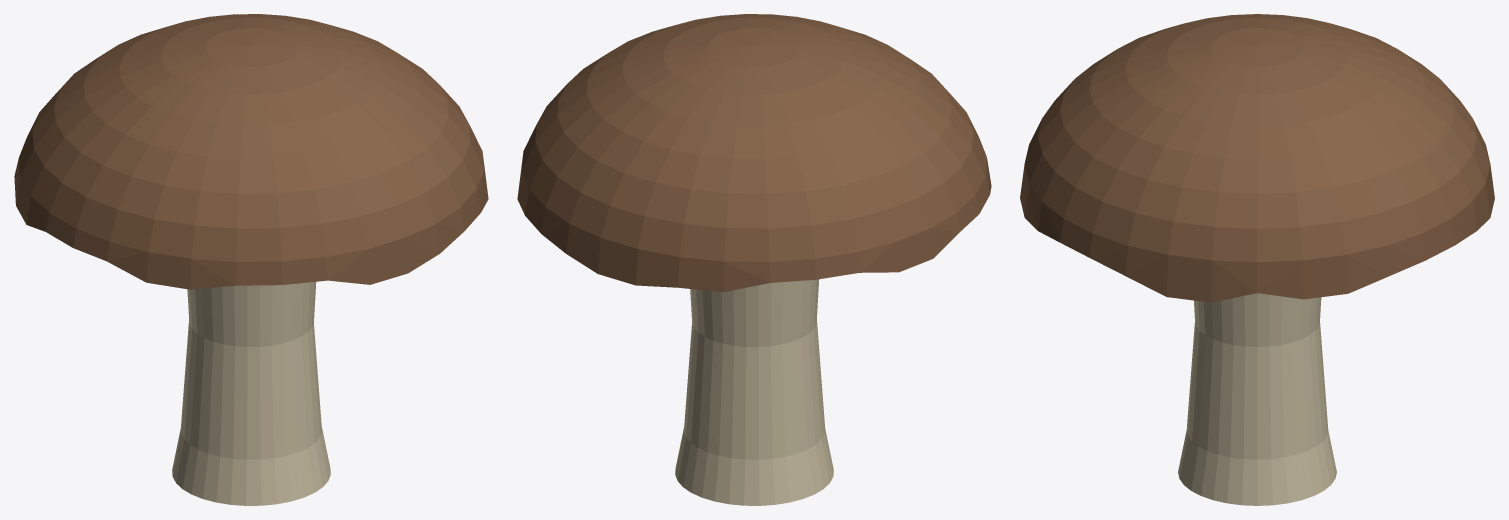
The model's file is mushroom.dae.
3 renders of one model, left to right at view 1: azimuth 30°, elevation 25°; view 2: azimuth 150°, elevation 25°; view 3: azimuth 270°, elevation 25°, orthographic.
Parts seen in each view (by area): view 1: Cylinder_001, Cylinder; view 2: Cylinder_001, Cylinder; view 3: Cylinder_001, Cylinder.
Boxes of the visible parts, x1,y1,x2,y2 form: Cylinder_001: (14,14,488,289); Cylinder: (172,282,330,505); Cylinder_001: (517,14,991,292); Cylinder: (675,279,833,505); Cylinder_001: (1020,14,1494,302); Cylinder: (1178,293,1336,505).
Bounding box in the file's own units: 1.83 × 1.83 × 1.82.
